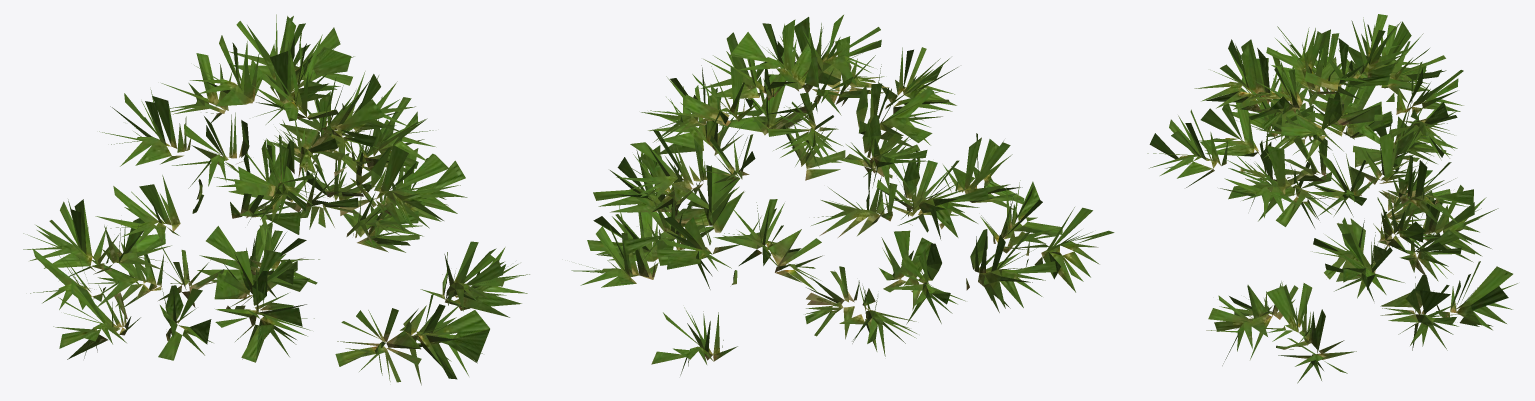
The model's file is leaf_au.glb.
The picture shows the model from 3 angles, left to right: view 1: azimuth 30°, elevation 25°; view 2: azimuth 150°, elevation 25°; view 3: azimuth 270°, elevation 25°; orthographic projection. The views are drawn at different scales.
Visible parts, largest first — view 1: geometry_0; view 2: geometry_0; view 3: geometry_0.
Boxes of the visible parts, <box> form: geometry_0: <box>23,14,529,385</box>; geometry_0: <box>571,15,1114,375</box>; geometry_0: <box>1147,14,1517,383</box>.
Bounding box in the file's own units: 0.393 × 0.2366 × 0.2855.
Materials: 1 (1 with a texture image).
